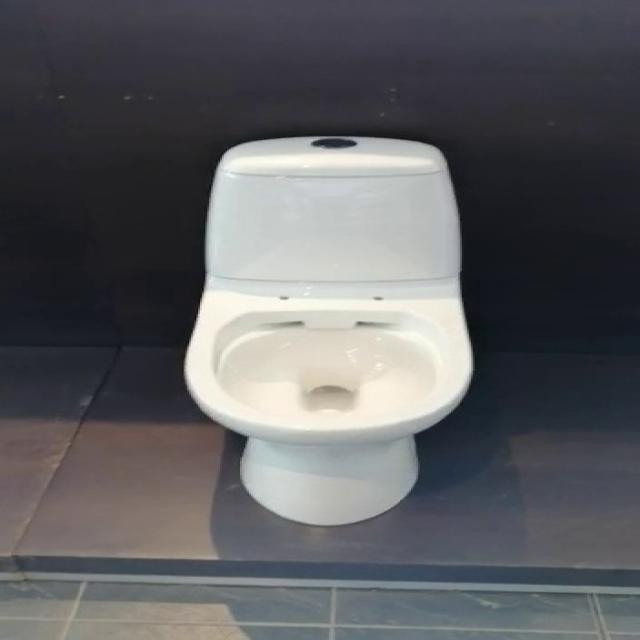toilet: (173, 128, 479, 530)
